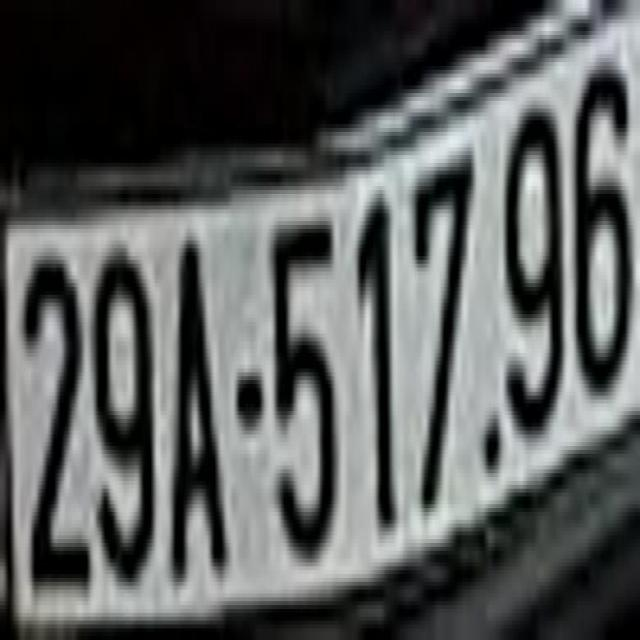1: (352, 171, 398, 543)
2: (20, 229, 92, 597)
5: (267, 194, 342, 582)
6: (572, 35, 636, 407)
7: (411, 128, 477, 508)
9: (500, 89, 567, 442), (94, 236, 156, 590)
A: (168, 218, 232, 598)
